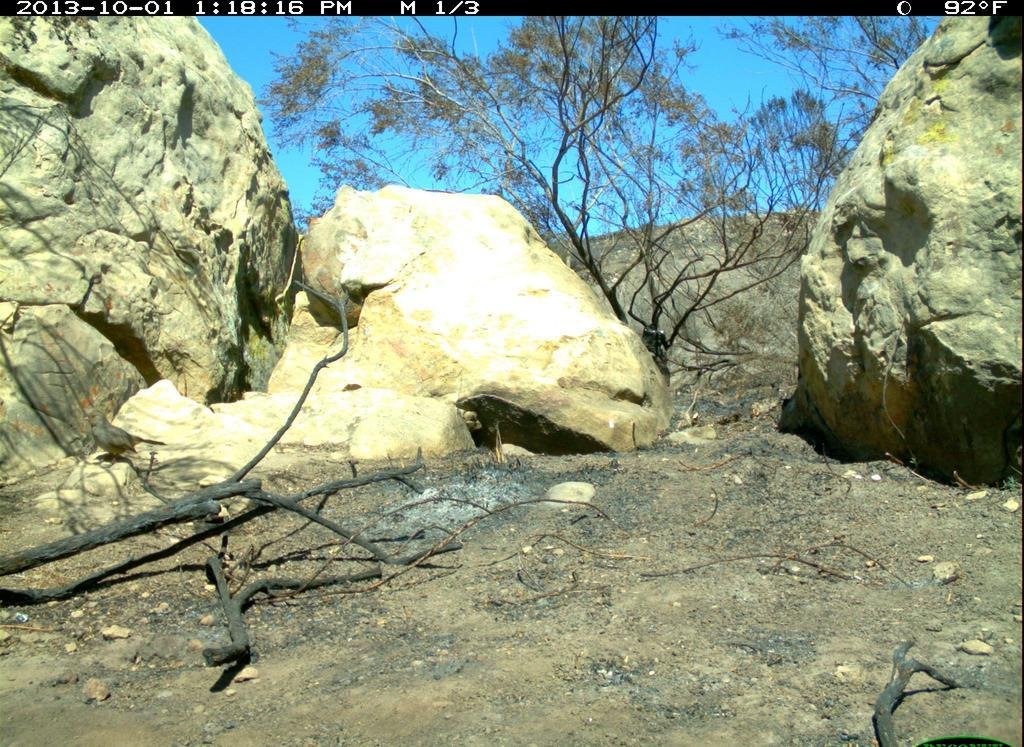bird: (84, 408, 171, 469)
